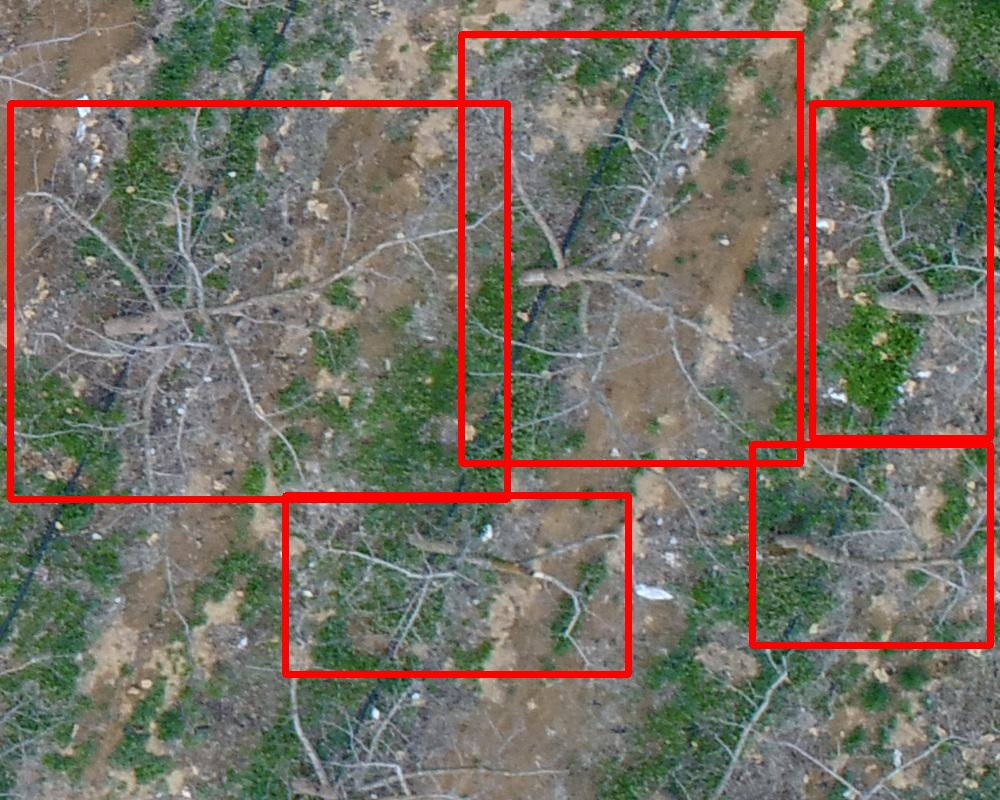apple: (10, 103, 507, 499), (461, 34, 800, 463), (285, 495, 628, 674), (812, 103, 990, 438), (752, 444, 990, 645)
